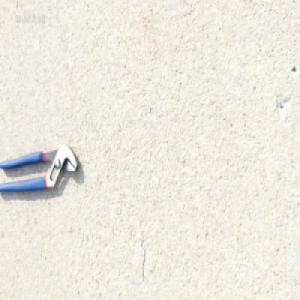Pliers: (0, 139, 78, 194)
